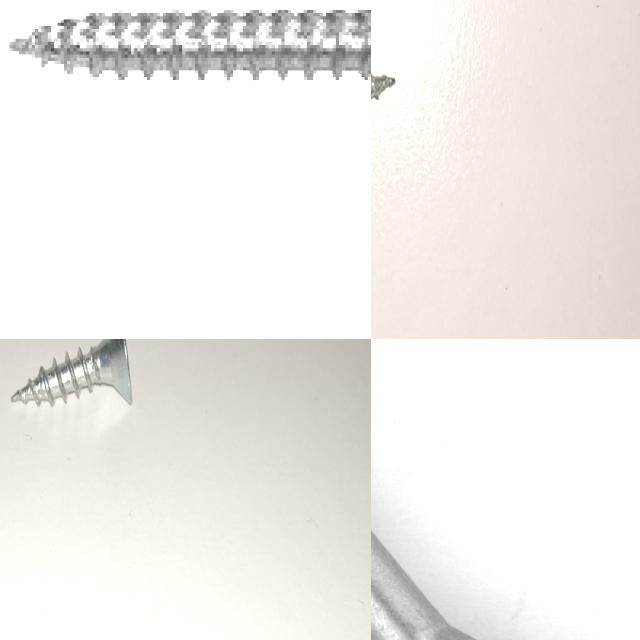Screw: (371, 339, 566, 640), (9, 13, 371, 80), (11, 339, 132, 406)
